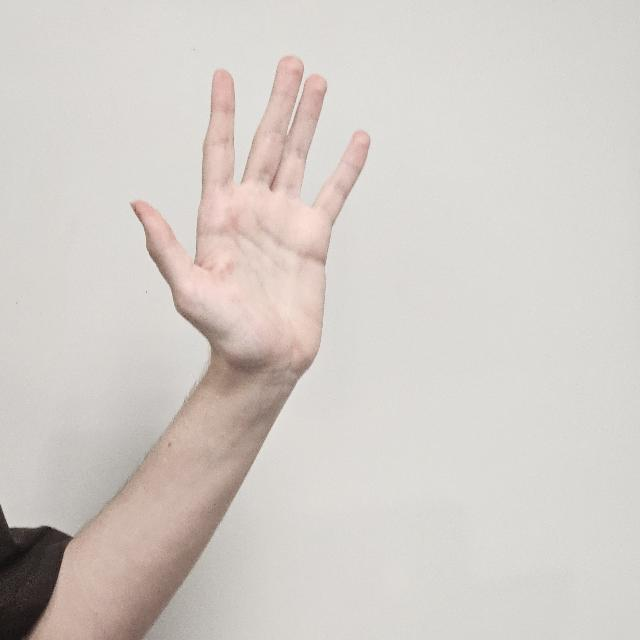X: (127, 53, 369, 410)
